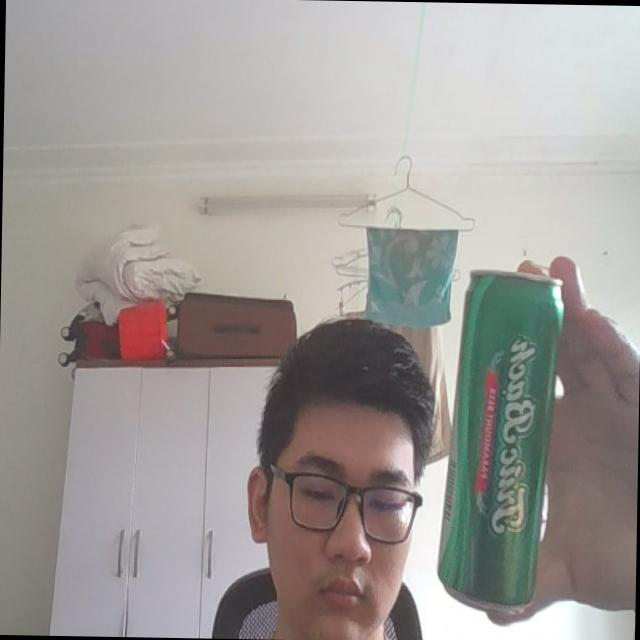Bia-Truc-Bach: (434, 266, 566, 613)
